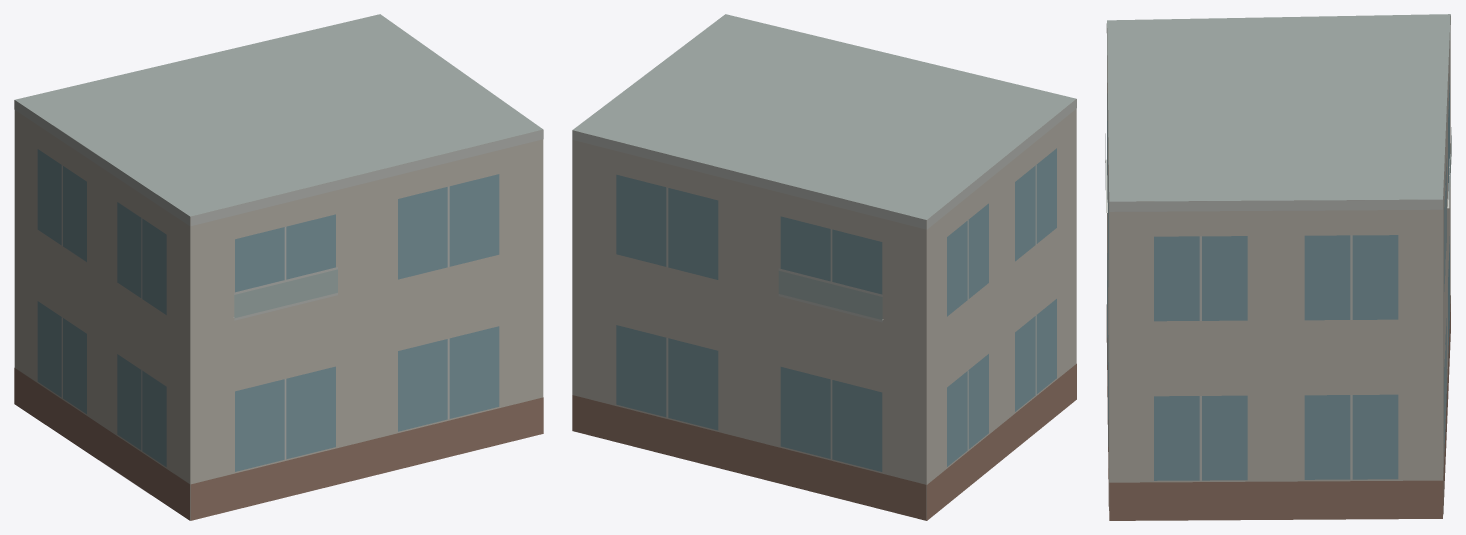
File: survey-upis-33025878.glb
The picture shows the model from 3 angles, left to right: view 1: azimuth 30°, elevation 25°; view 2: azimuth 150°, elevation 25°; view 3: azimuth 270°, elevation 25°; orthographic projection. The views are drawn at different scales.
Visible parts, largest first — view 1: survey-upis-33025878.tmp; view 2: survey-upis-33025878.tmp; view 3: survey-upis-33025878.tmp.
Boxes of the visible parts, box(x1,y1,x2,y2) form: survey-upis-33025878.tmp: box(14, 14, 543, 520); survey-upis-33025878.tmp: box(572, 14, 1076, 520); survey-upis-33025878.tmp: box(1105, 14, 1451, 520).
Size of the model in its own units: 9.59 by 7.6 by 7.47.
